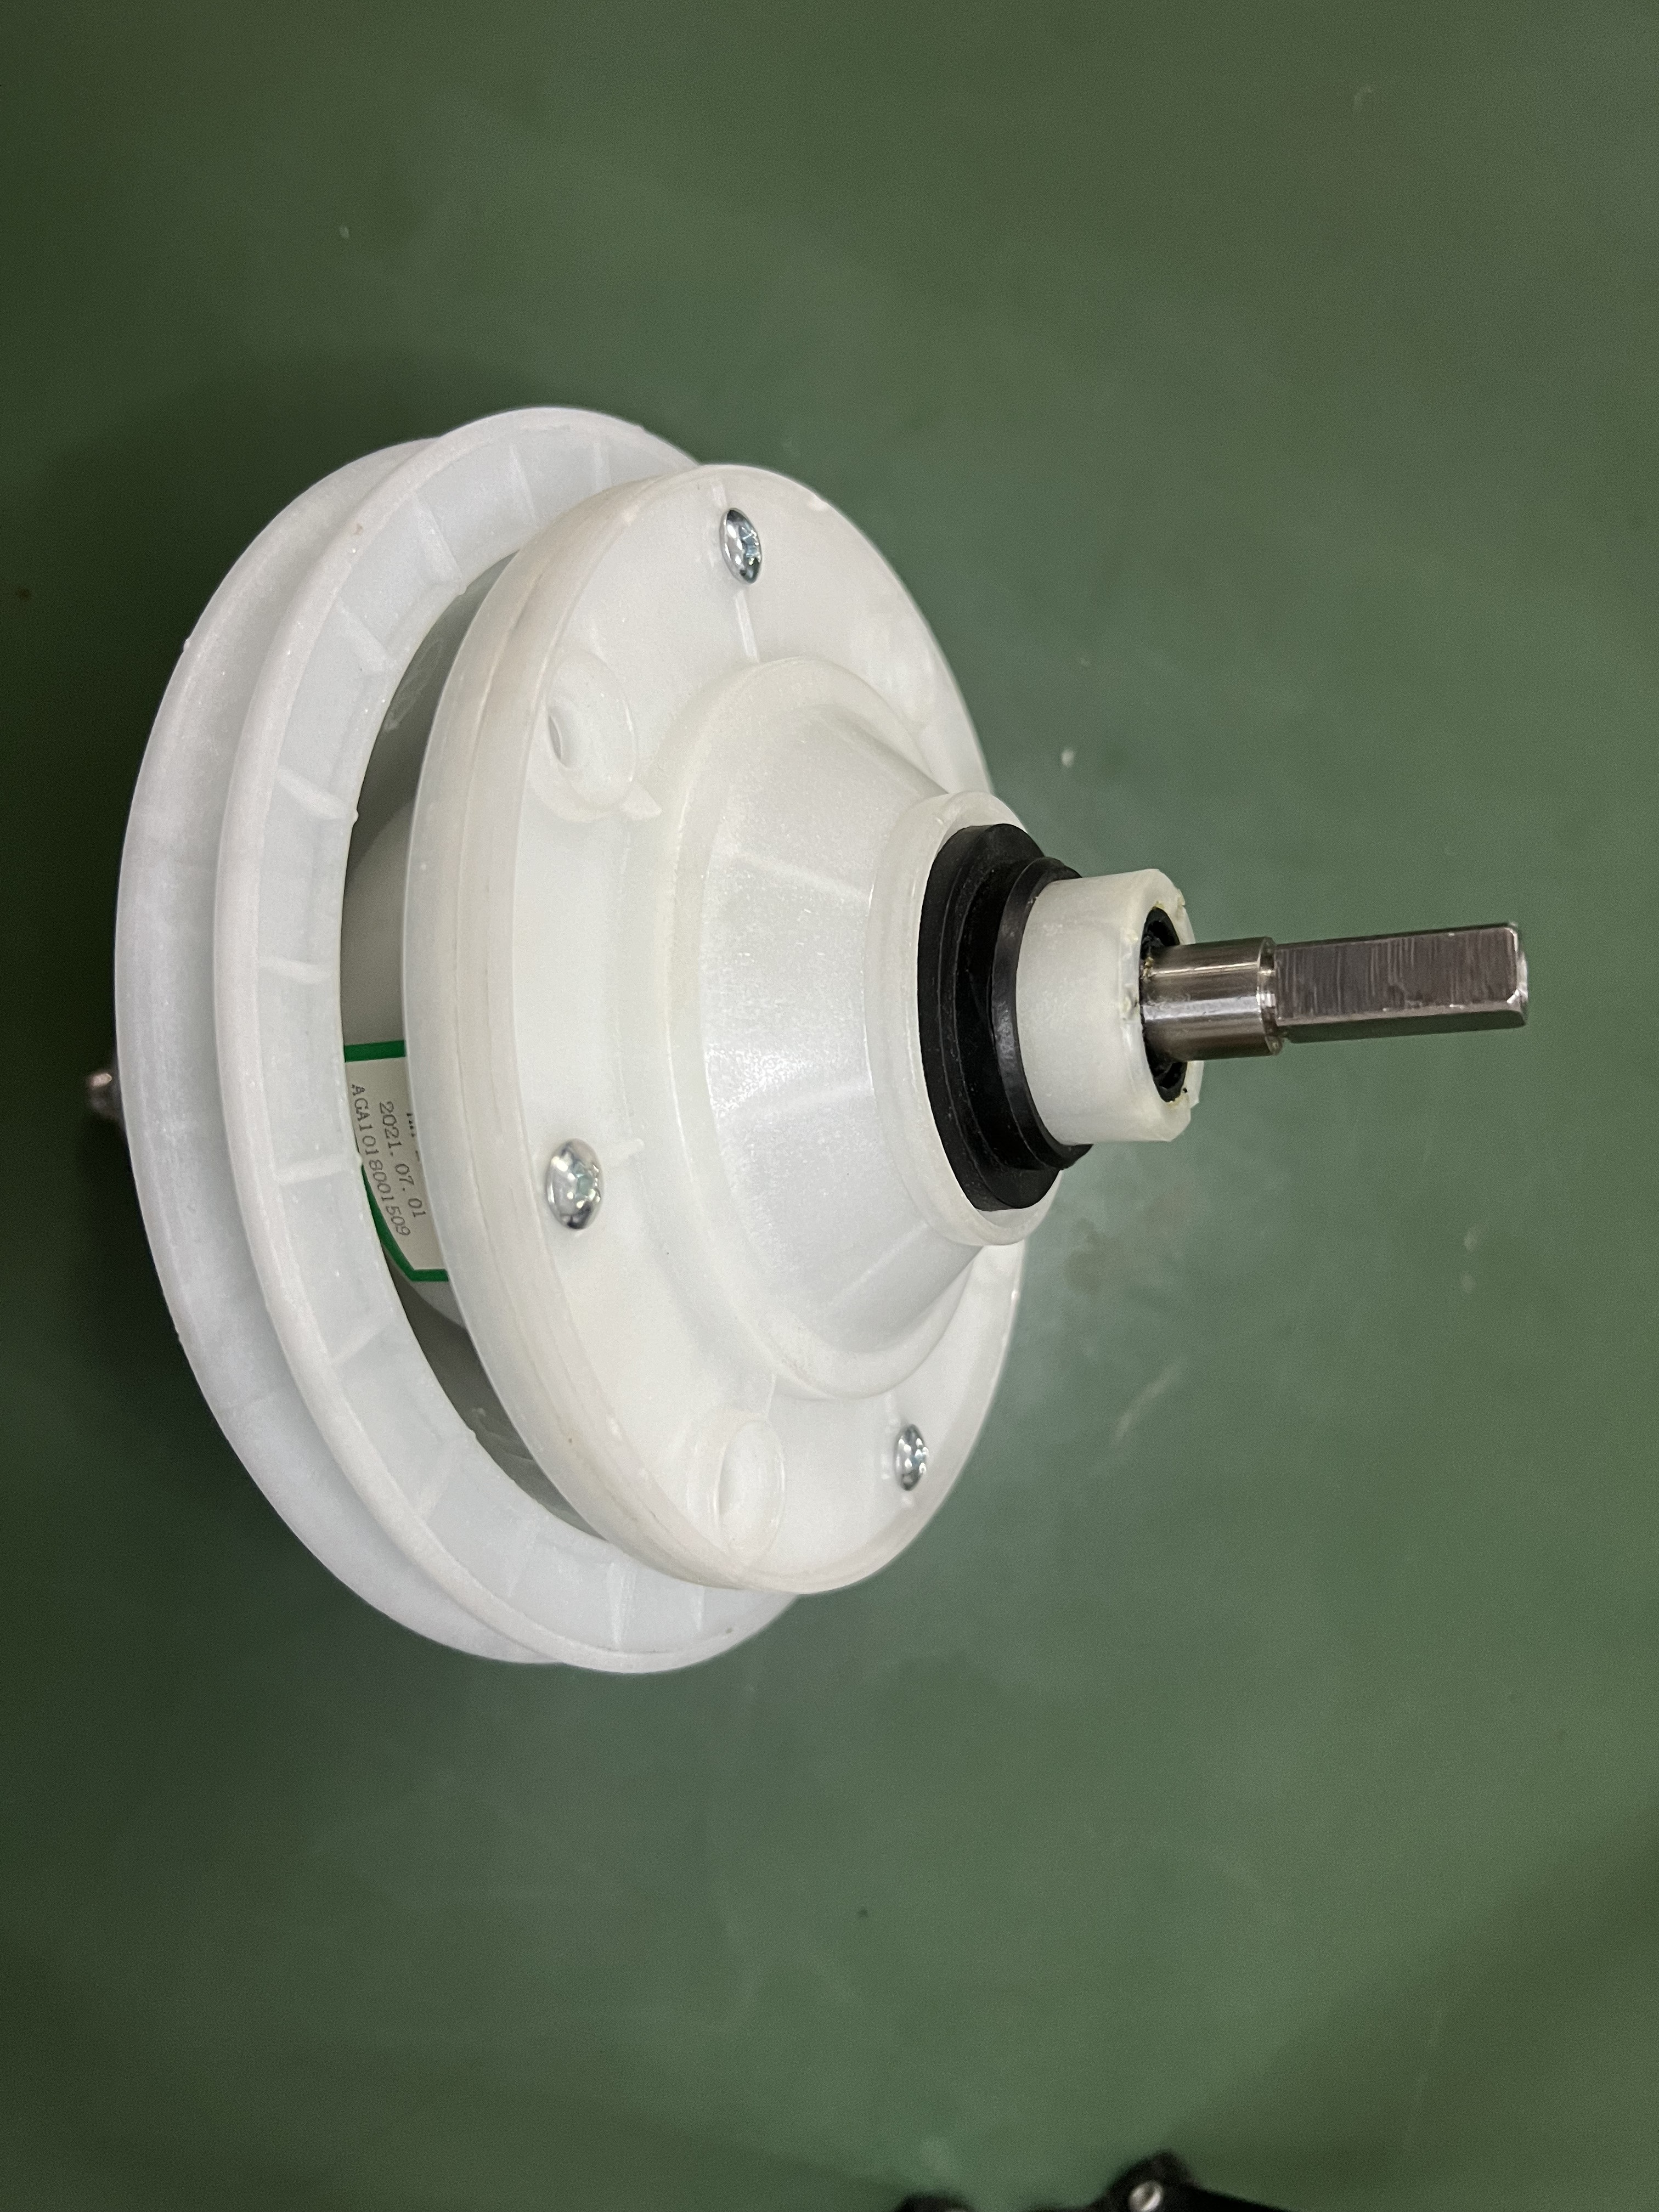gear_box_ovul: (101, 399, 1542, 1670)
